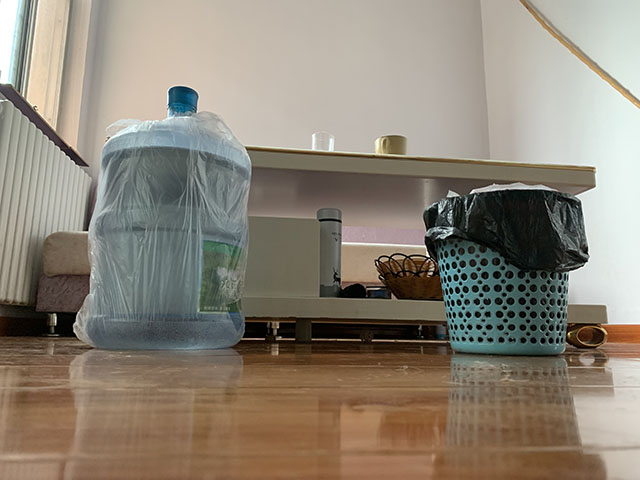table: (241, 144, 611, 351)
trashcan: (422, 180, 592, 358)
